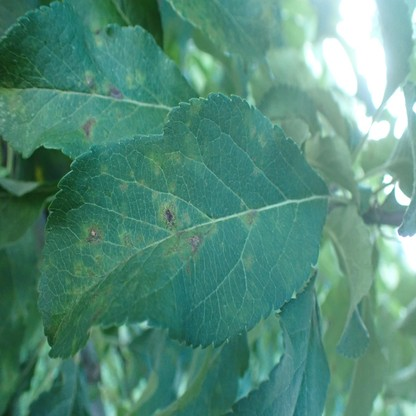scab: (48, 252, 111, 355), (159, 201, 216, 255), (1, 67, 28, 115), (174, 0, 206, 26), (76, 220, 105, 247), (145, 150, 163, 175), (79, 116, 96, 140), (101, 80, 123, 98), (238, 210, 260, 228), (90, 21, 104, 48), (85, 70, 100, 95), (126, 73, 145, 87), (187, 150, 201, 166), (121, 231, 133, 247), (118, 203, 128, 221), (243, 256, 254, 270), (248, 124, 257, 141), (208, 25, 217, 41), (191, 99, 202, 112), (112, 106, 122, 119), (171, 153, 181, 164), (272, 130, 280, 143), (151, 191, 159, 204), (119, 183, 129, 193), (135, 231, 142, 245), (252, 165, 260, 177), (260, 135, 268, 147), (169, 180, 176, 193), (218, 29, 226, 40), (100, 166, 109, 174), (135, 180, 145, 187), (153, 225, 159, 236), (186, 120, 191, 128), (130, 170, 135, 178)
